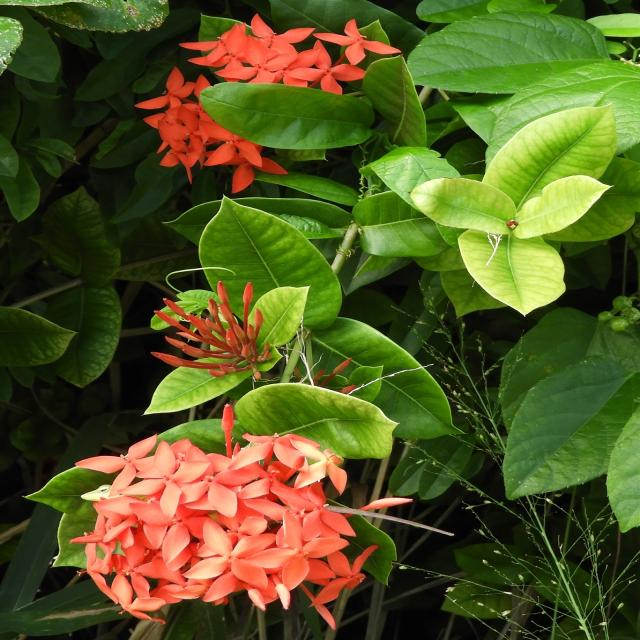Chinese-Ixora: (61, 432, 424, 606), (138, 8, 407, 179), (149, 278, 275, 382)
